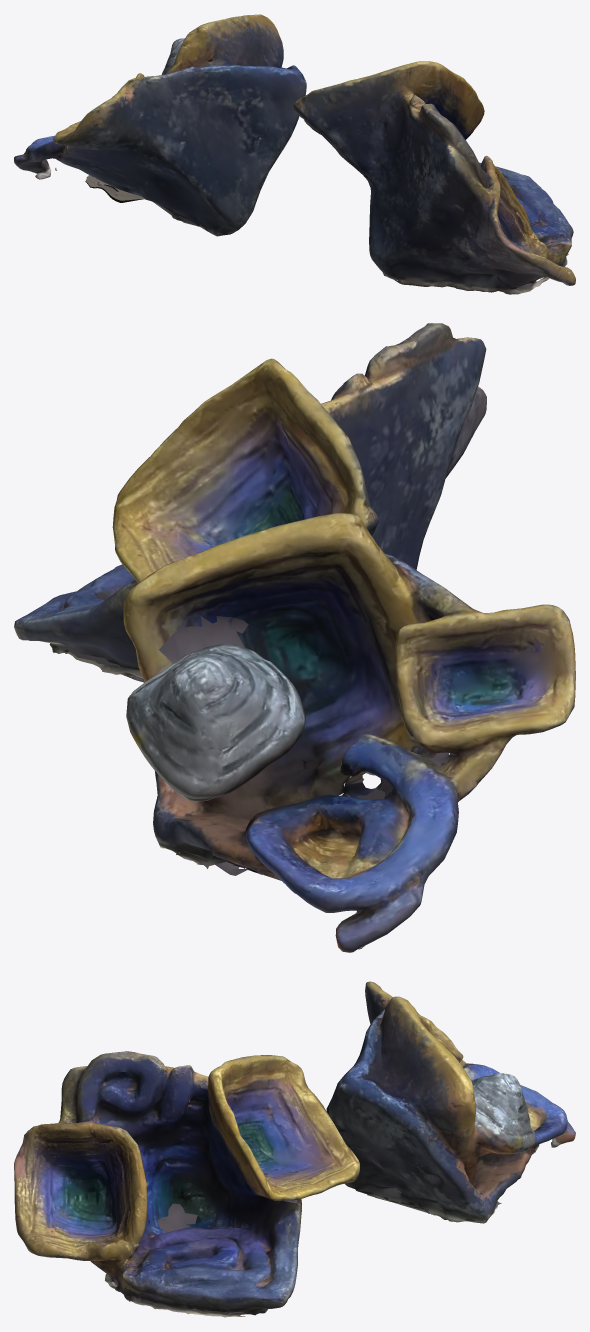
3 renders of one model, top to bottom at view 1: azimuth 30°, elevation 25°; view 2: azimuth 150°, elevation 25°; view 3: azimuth 270°, elevation 25°, orthographic. The views are drawn at different scales.
Parts seen in each view (by area): view 1: Mesh_0.001; view 2: Mesh_0.001; view 3: Mesh_0.001.
Boxes of the visible parts, bbox=[...] form: Mesh_0.001: bbox=[14, 14, 575, 294]; Mesh_0.001: bbox=[14, 323, 575, 952]; Mesh_0.001: bbox=[14, 981, 575, 1317].
Bounding box in the file's own units: 1.68 × 0.8145 × 2.02.
9 materials, 8 textured.
